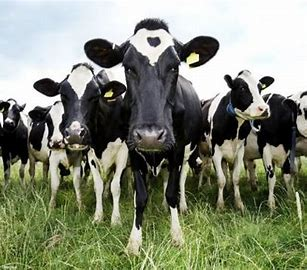waka: (78, 18, 214, 255)
